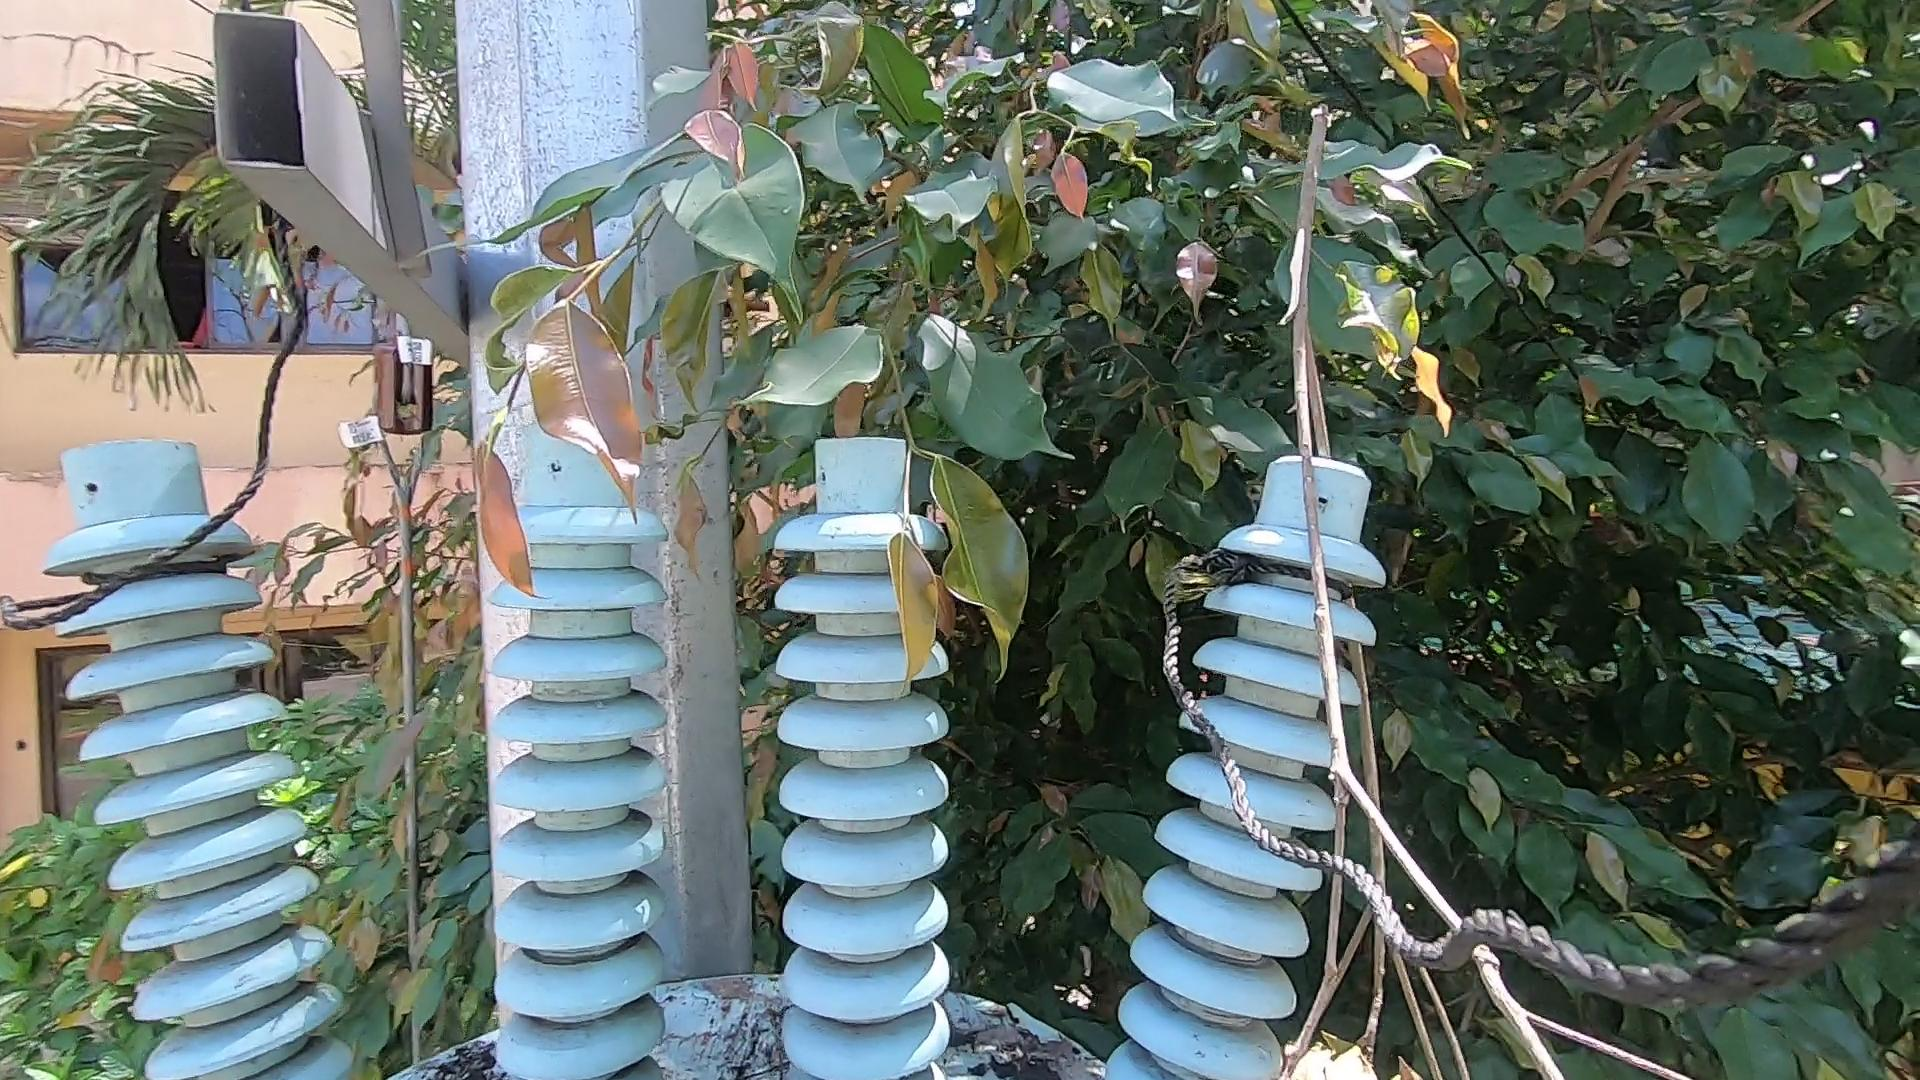branch with leaves: (1218, 71, 1753, 1080)
